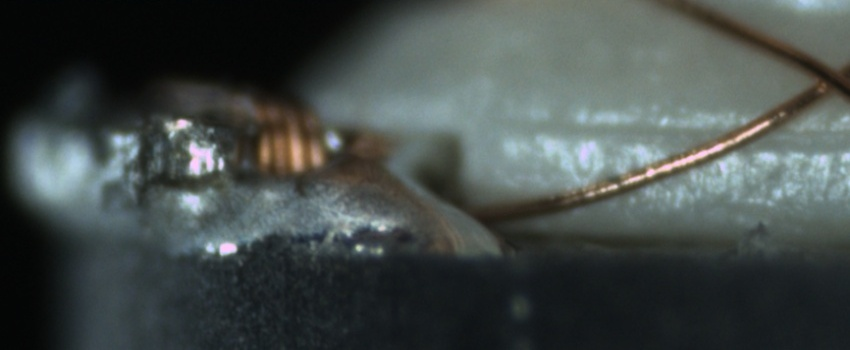CL: (790, 48, 849, 105)
DL: (521, 100, 850, 163)
TE: (195, 75, 343, 185)
